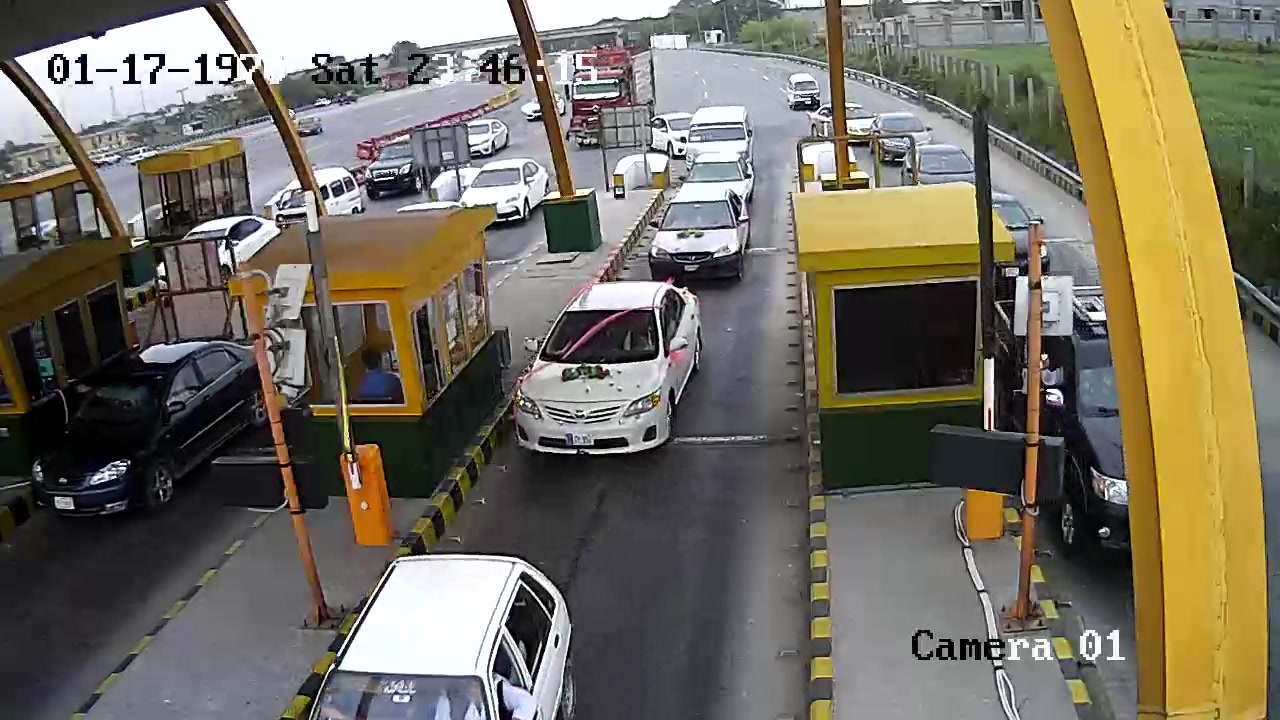F1: (513, 268, 710, 469)
